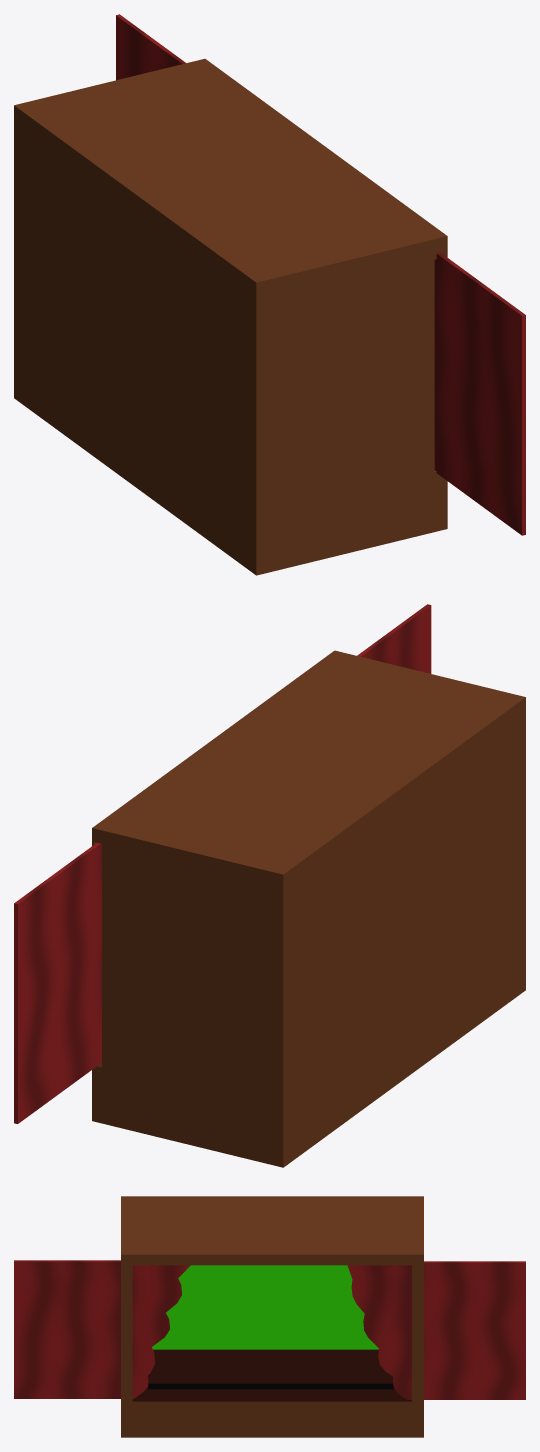
File: Stage.glb
3 renders of one model, top to bottom at view 1: azimuth 30°, elevation 25°; view 2: azimuth 150°, elevation 25°; view 3: azimuth 270°, elevation 25°, orthographic. The views are drawn at different scales.
Visible parts, largest first — view 1: Cube, Plane, Plane.001; view 2: Cube, Plane.001, Plane; view 3: Cube, Plane.001, Plane.
Boxes of the visible parts, x1,y1,x2,y2 form: Cube: [14, 58, 447, 575]; Plane: [434, 252, 525, 535]; Plane.001: [116, 14, 185, 80]; Cube: [92, 650, 525, 1167]; Plane.001: [14, 842, 101, 1123]; Plane: [357, 604, 431, 673]; Cube: [121, 1196, 423, 1437]; Plane.001: [347, 1261, 525, 1399]; Plane: [14, 1260, 190, 1398].
Bounding box in the file's own units: 1.37 × 2 × 5.07.
Materials: 6 (1 with a texture image).
